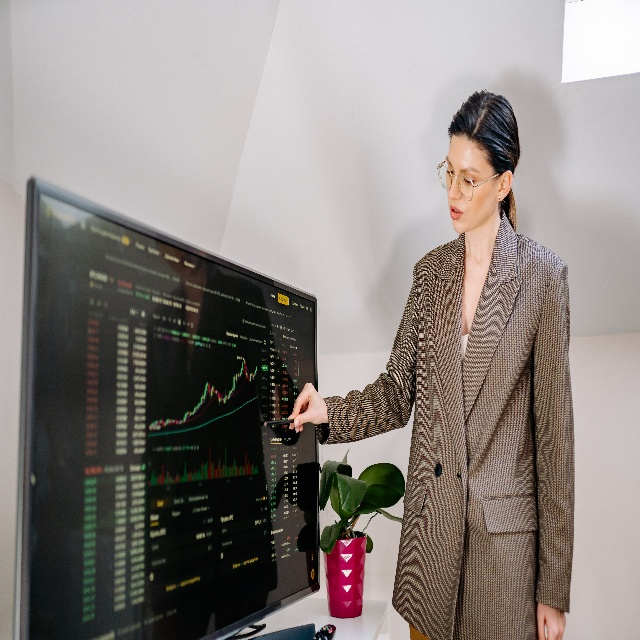Gafas: (436, 160, 499, 201)
Sin_guantes: (287, 382, 328, 433), (537, 600, 567, 640)
